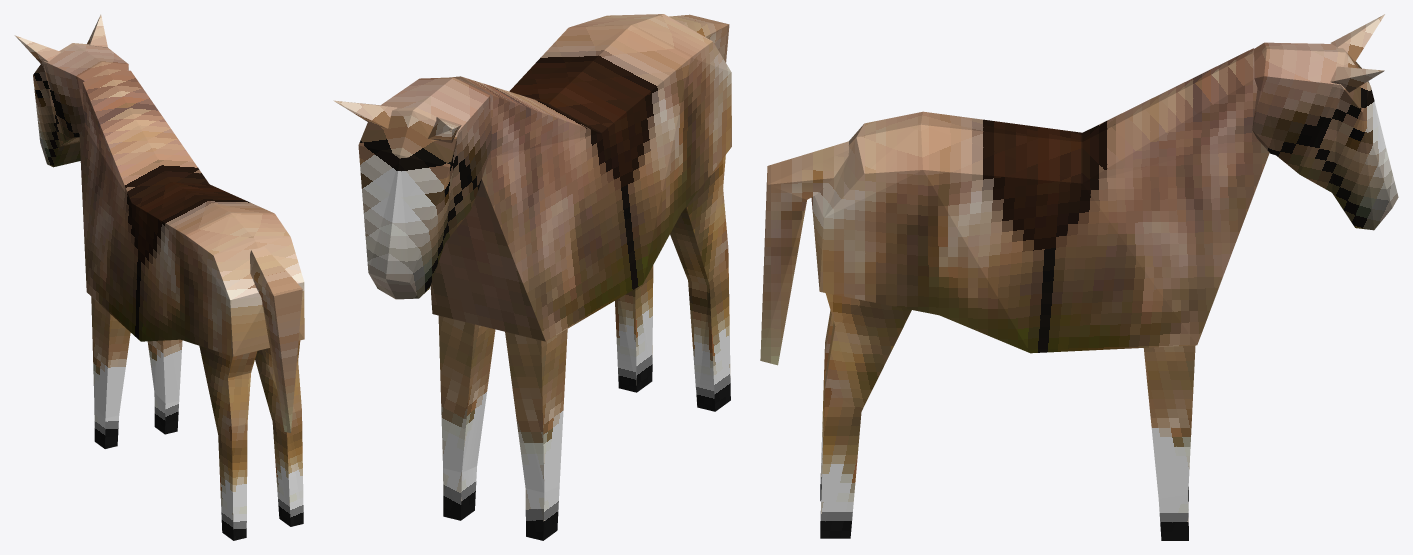
File: Horse_Horse_Palomino_Saddled.glb
3 views of the same model, side by side, from view 1: azimuth 30°, elevation 25°; view 2: azimuth 150°, elevation 25°; view 3: azimuth 270°, elevation 25° (orthographic). The views are drawn at different scales.
Parts seen in each view (by area): view 1: Body, Head, Leg3, Leg4, Leg1, Leg2; view 2: Body, Head, Leg3, Leg1, Leg2, Leg4; view 3: Body, Head, Leg4, Leg2.
Boxes of the visible parts, x1=… form: Body: x1=79, y1=69, x2=304, y2=432; Head: x1=14, y1=14, x2=128, y2=167; Leg3: x1=199, y1=346, x2=257, y2=540; Leg4: x1=255, y1=340, x2=303, y2=526; Leg1: x1=91, y1=297, x2=130, y2=448; Leg2: x1=147, y1=339, x2=182, y2=434; Body: x1=430, y1=14, x2=731, y2=341; Head: x1=333, y1=77, x2=491, y2=299; Leg3: x1=670, y1=155, x2=730, y2=411; Leg1: x1=505, y1=329, x2=567, y2=540; Leg2: x1=438, y1=315, x2=495, y2=520; Leg4: x1=615, y1=265, x2=653, y2=392; Body: x1=760, y1=48, x2=1269, y2=365; Head: x1=1252, y1=14, x2=1398, y2=230; Leg4: x1=820, y1=293, x2=911, y2=538; Leg2: x1=1143, y1=345, x2=1195, y2=540.
Bounding box in the file's own units: 0.4986 × 1.71 × 2.08.
Materials: 1 (1 with a texture image).
